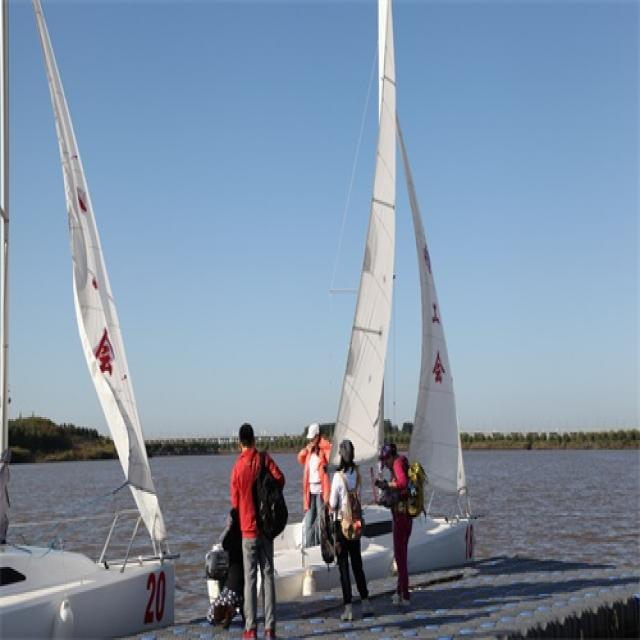Ship: (214, 1, 480, 578), (1, 1, 189, 640)
